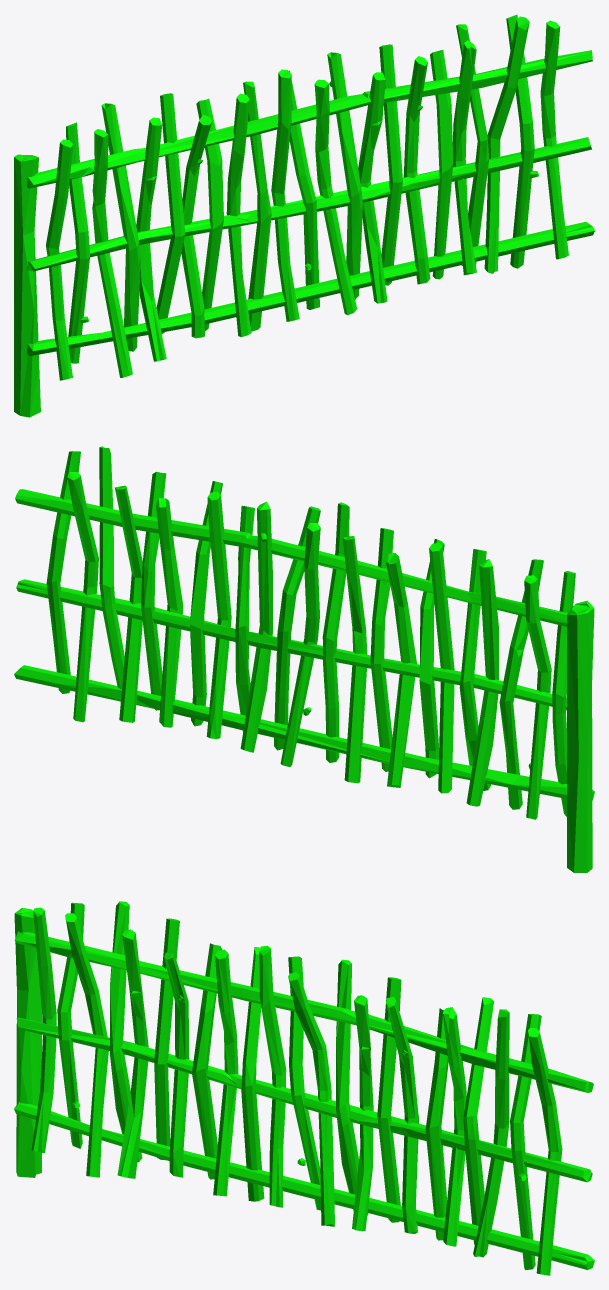
Rendered from SM_Fence_Stick_Weave_3m_A.fbx.
The picture shows the model from 3 angles, top to bottom: view 1: azimuth 30°, elevation 25°; view 2: azimuth 150°, elevation 25°; view 3: azimuth 330°, elevation 25°; orthographic projection.
Visible parts, largest first — view 1: fence-stick-weave-3m-a; view 2: fence-stick-weave-3m-a; view 3: fence-stick-weave-3m-a.
Boxes of the visible parts, <box> form: fence-stick-weave-3m-a: <box>14,14,594,417</box>; fence-stick-weave-3m-a: <box>14,446,594,872</box>; fence-stick-weave-3m-a: <box>14,901,594,1275</box>.
Bounding box in the file's own units: 3.16 × 1.54 × 0.3289.
